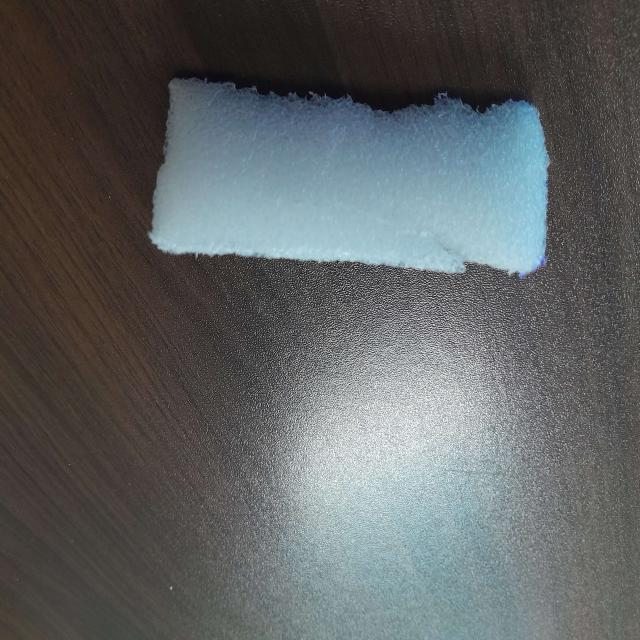engine: (154, 72, 550, 282)
